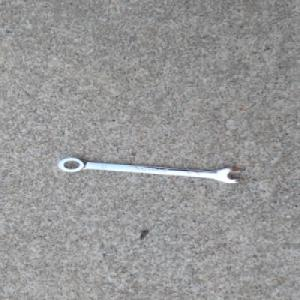Wrench: (54, 156, 244, 184)
